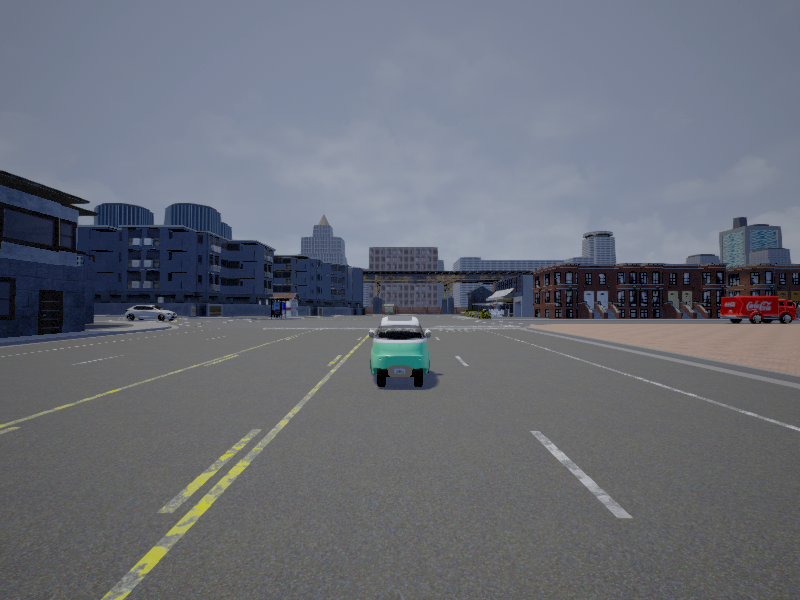Benign: (369, 318, 430, 387), (721, 296, 798, 325), (127, 303, 177, 322)
